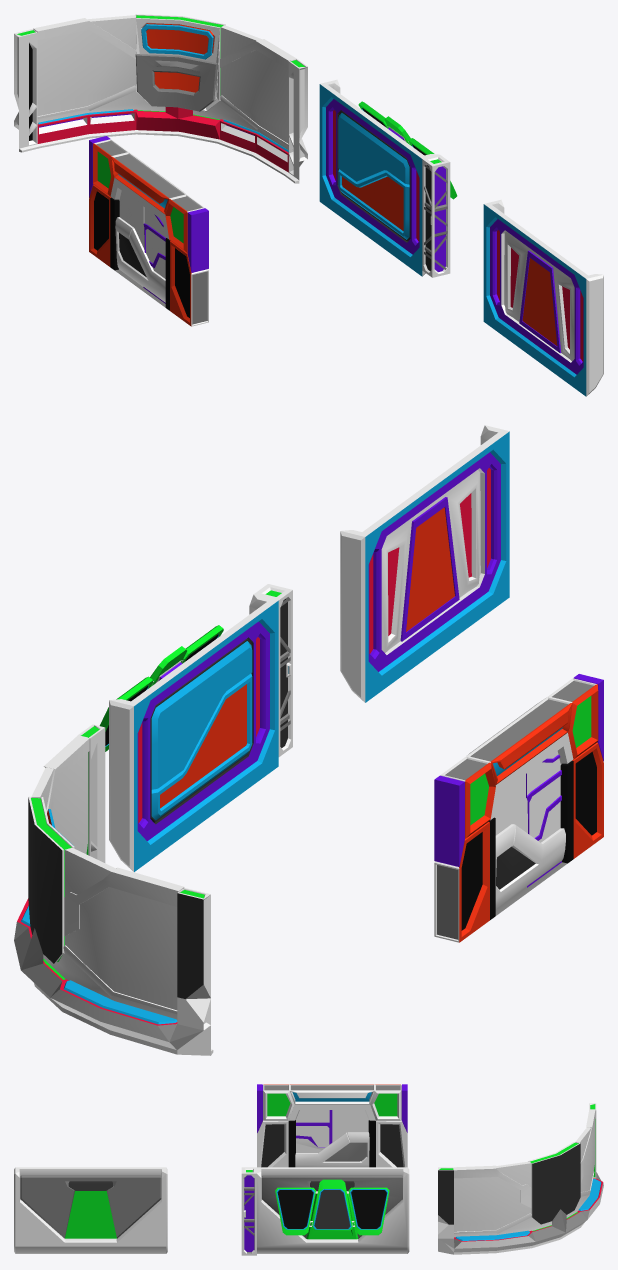
Rendered from SpaceBase_Walls00.fbx.
The picture shows the model from 3 angles, top to bottom: view 1: azimuth 30°, elevation 25°; view 2: azimuth 150°, elevation 25°; view 3: azimuth 270°, elevation 25°; orthographic projection. The views are drawn at different scales.
Parts seen in each view (by area): view 1: Box004, BaseWall02_curved, Box023, Box006, Box035, Box022, BaseWall03_5x3, Box036, BaseWall01_5x3; view 2: Box006, Box023, Box035, BaseWall02_curved, Box004, BaseWall03_5x3, Box036, Box022, BaseWall01_5x3; view 3: Box023, Box006, Box004, Box035, BaseWall02_curved, BaseWall01_5x3, BaseWall03_5x3, Box036, Box022, Door.
Boxes of the visible parts, <box> form: Box004: <box>14,14,307,183</box>; BaseWall02_curved: <box>33,15,296,149</box>; Box023: <box>483,199,603,396</box>; Box006: <box>319,79,438,276</box>; Box035: <box>89,136,208,326</box>; Box022: <box>422,154,450,277</box>; BaseWall03_5x3: <box>110,177,170,310</box>; Box036: <box>115,217,165,302</box>; BaseWall01_5x3: <box>358,101,457,199</box>; Box006: <box>109,594,278,871</box>; Box023: <box>340,425,509,702</box>; Box035: <box>434,674,603,942</box>; BaseWall02_curved: <box>31,735,184,1020</box>; Box004: <box>14,724,213,1055</box>; BaseWall03_5x3: <box>489,732,573,919</box>; Box036: <box>495,824,565,909</box>; Box022: <box>254,584,292,756</box>; BaseWall01_5x3: <box>99,625,223,751</box>; Box023: <box>14,1167,167,1253</box>; Box006: <box>257,1167,409,1253</box>; Box004: <box>438,1103,603,1254</box>; Box035: <box>257,1084,407,1167</box>; BaseWall02_curved: <box>453,1109,595,1237</box>; BaseWall01_5x3: <box>275,1179,389,1235</box>; BaseWall03_5x3: <box>288,1104,375,1167</box>; Box036: <box>295,1132,369,1167</box>; Box022: <box>241,1167,256,1255</box>; Door: <box>296,1110,332,1149</box>.
Size of the model in its own units: 81.28 by 31.96 by 195.
